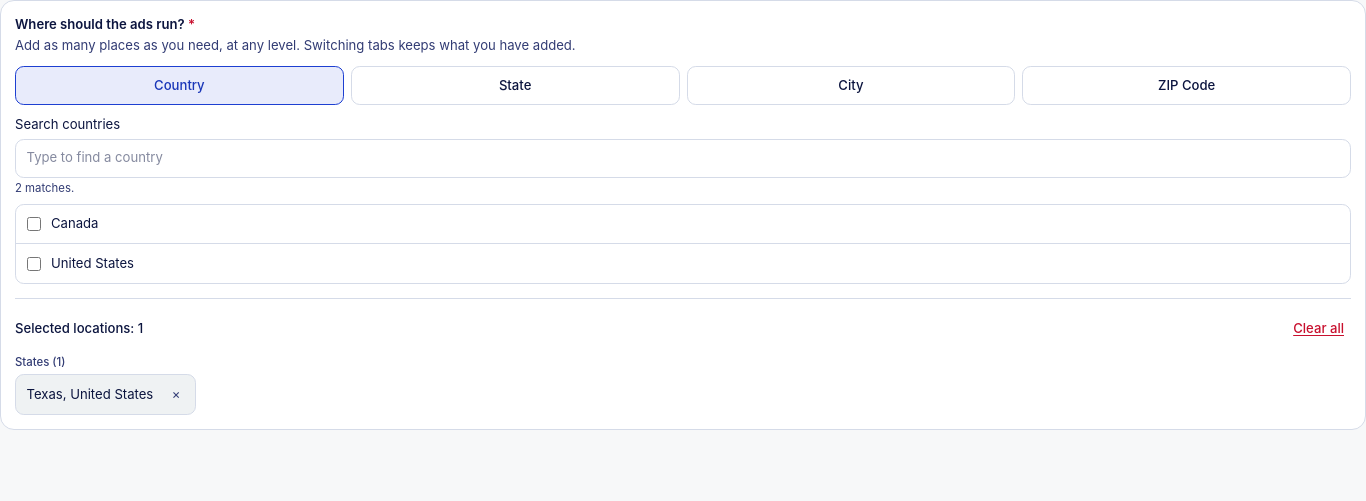
Test: LocationPicker › names an invalid postcode, keeps it in the box, and keeps every other pick
The width and height of the screenshot is (1366, 501).
Click the tab "ZIP Code".
click(1187, 86)  # box [1022,66,1351,105]
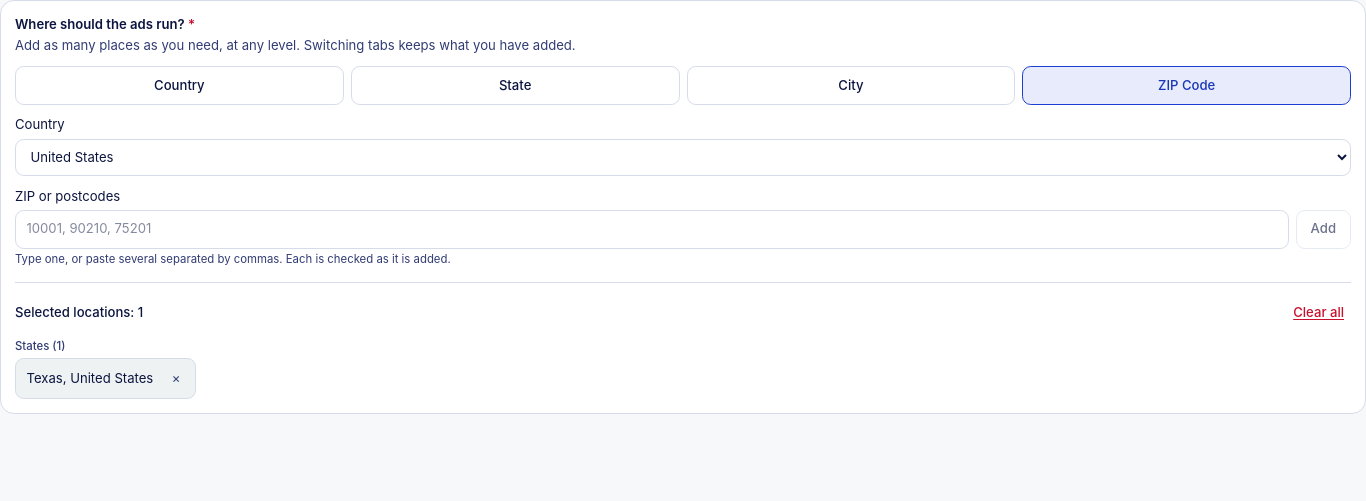
Select "United States" in the dropdown labelled "Country" at (683, 157), box [15,138,1351,176]
Type "99999, 90210" into the field labelled "ZIP or postcodes".
click(652, 229); type("99999, 90210")  # box [15,210,1289,249]
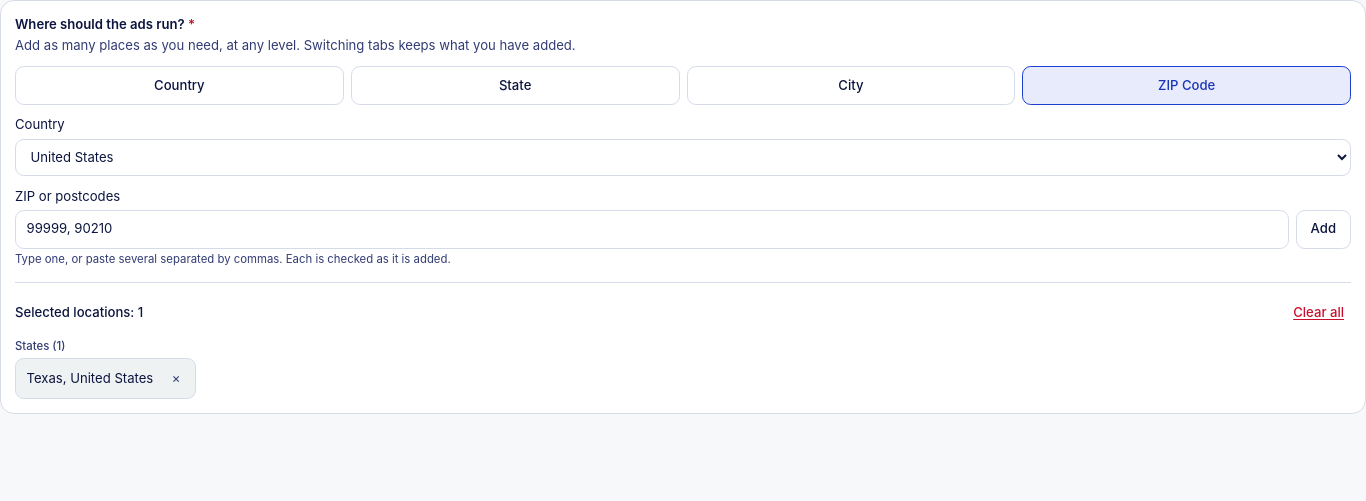
Press Enter in the field labelled "ZIP or postcodes", box [15,210,1289,249]
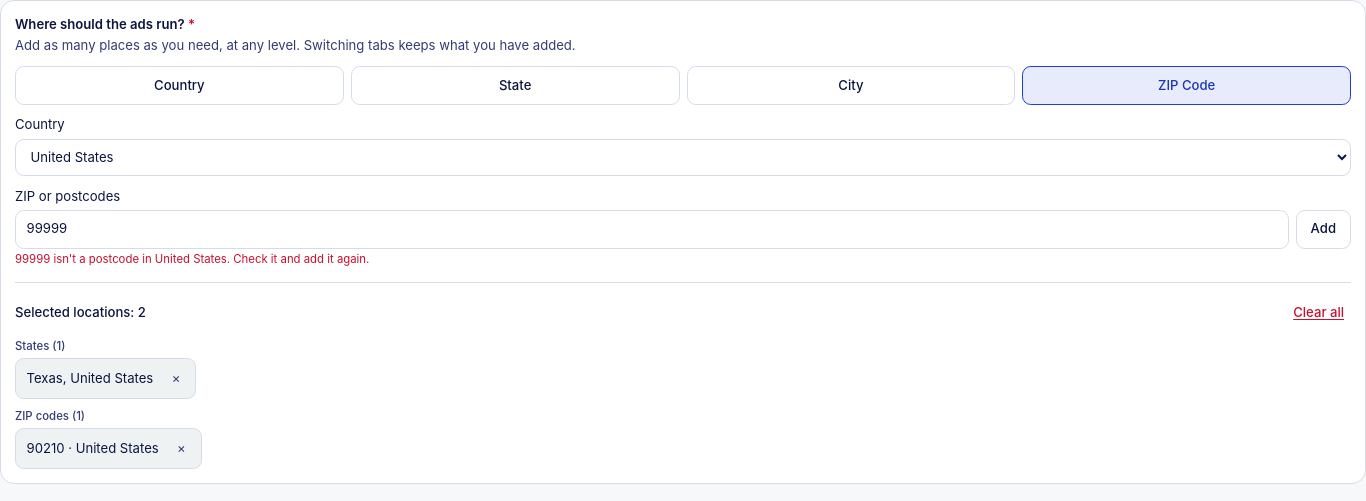
Expected: the message shows "99999 isn't a postcode in United States", [15,252,369,266]
Expected: the field labelled "ZIP or postcodes" holds "99999", [15,210,1289,249]
